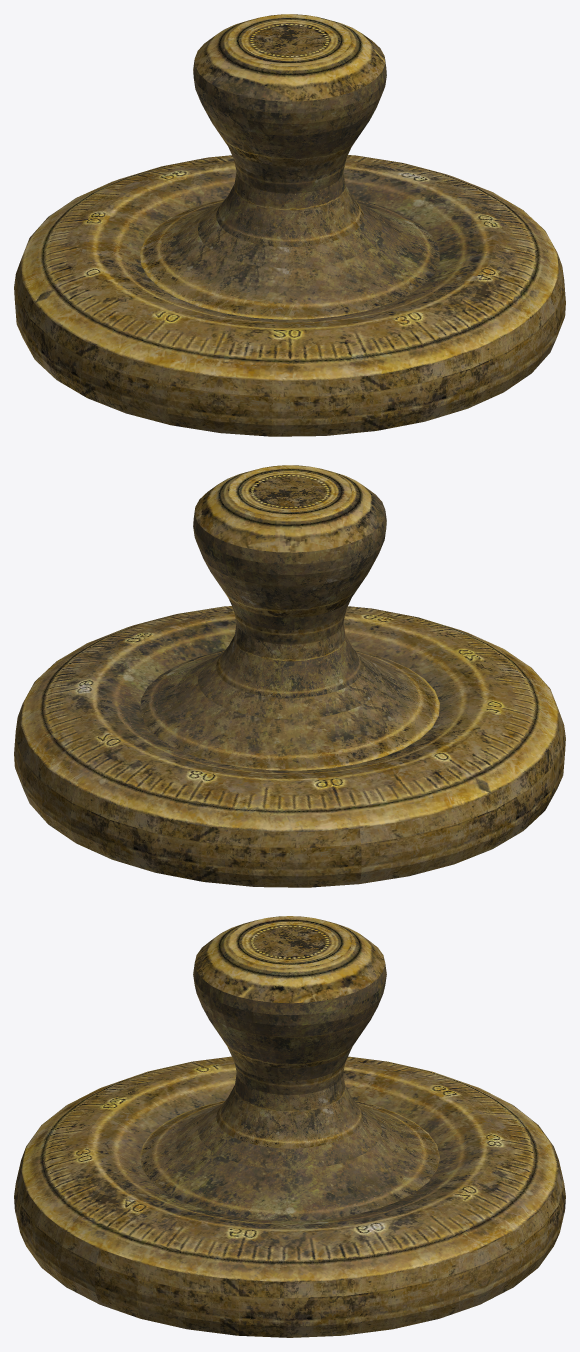
File: safe_dial.glb
3 views of the same model, one above another, from view 1: azimuth 30°, elevation 25°; view 2: azimuth 150°, elevation 25°; view 3: azimuth 270°, elevation 25° (orthographic).
Visible parts, largest first — view 1: safe_dial; view 2: safe_dial; view 3: safe_dial.
Boxes of the visible parts, x1,y1,x2,y2 form: safe_dial: [14, 14, 565, 436]; safe_dial: [14, 465, 565, 887]; safe_dial: [14, 916, 565, 1337].
Bounding box in the file's own units: 2.05 × 1.16 × 2.05.
1 material, 1 textured.
